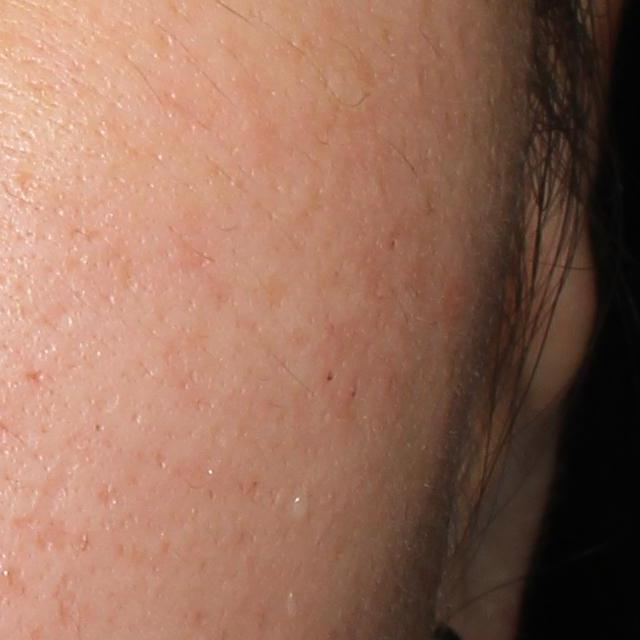atrophic_scar: (11, 429, 93, 560), (50, 569, 83, 635), (40, 300, 79, 334), (102, 481, 123, 506)
